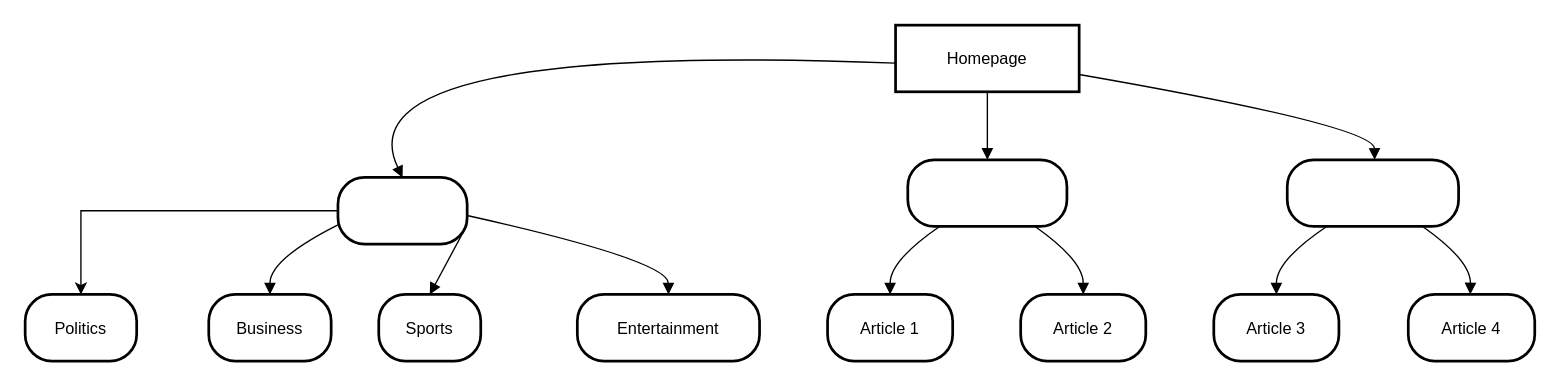
This 1559x385 diagram has some shape labels left out. The centre of each missing label's shape, as x and y in pixels:
Category: the point at 402,210
Latest News: the point at 987,192
Popular News: the point at 1372,192
